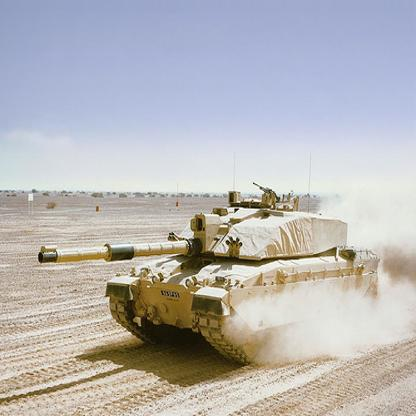Tank: (35, 180, 388, 367)
